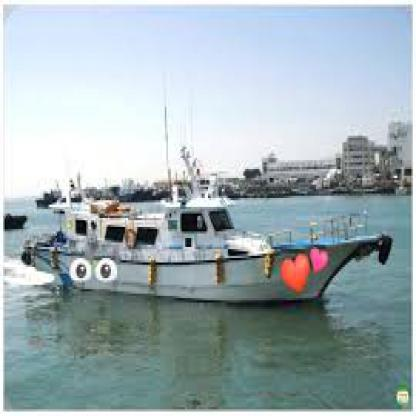fish-b: (19, 142, 402, 316)
